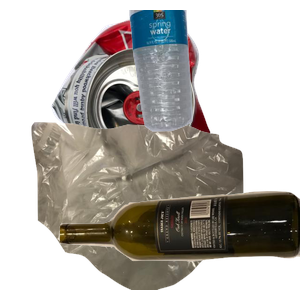glass: (60, 189, 300, 300)
metal: (48, 15, 251, 175)
plastic: (127, 10, 300, 134)
trash: (29, 120, 265, 300)
